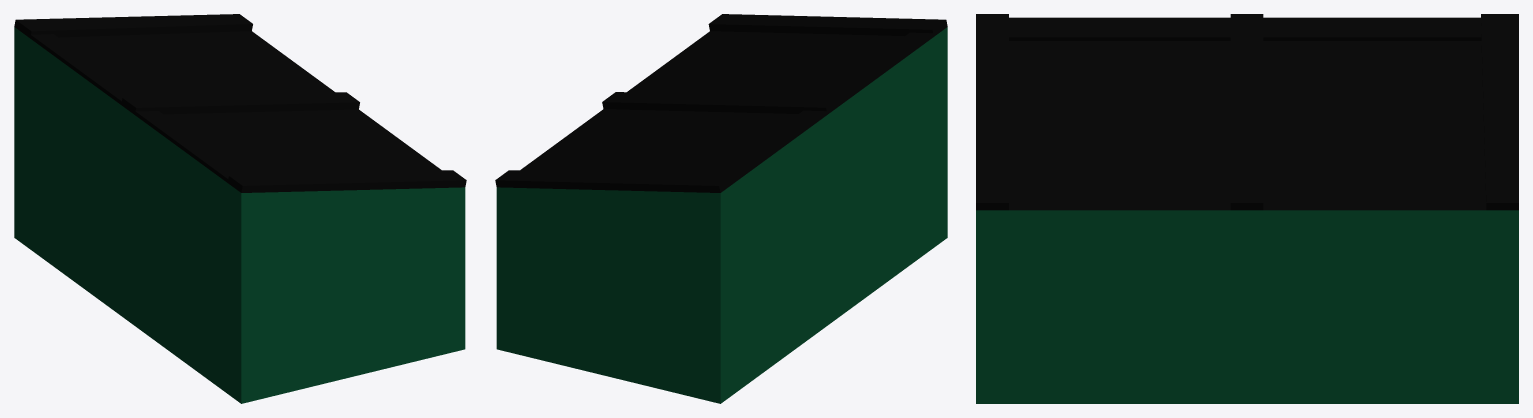
Rendered from Dumpster.fbx.
3 renders of one model, left to right at view 1: azimuth 30°, elevation 25°; view 2: azimuth 150°, elevation 25°; view 3: azimuth 270°, elevation 25°, orthographic. The views are drawn at different scales.
Parts seen in each view (by area): view 1: Model; view 2: Model; view 3: Model.
Boxes of the visible parts, <box> form: Model: <box>14,14,466,403</box>; Model: <box>495,14,947,403</box>; Model: <box>976,14,1518,403</box>.
Bounding box in the file's own units: 27.39 × 25.29 × 47.82.
